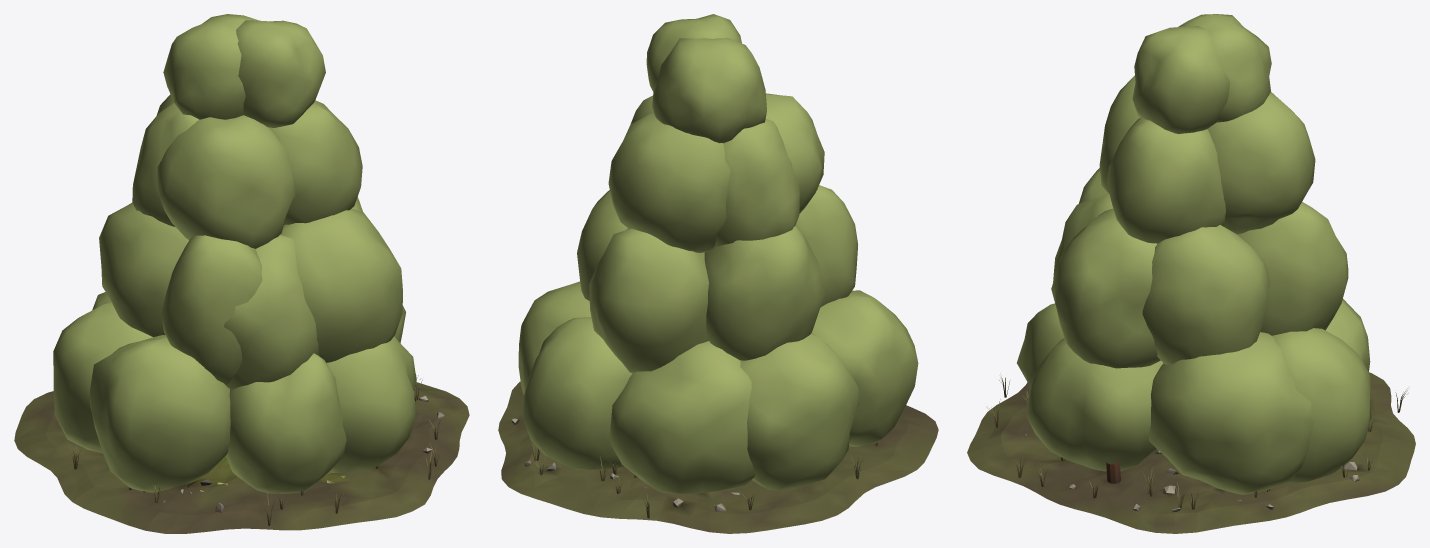
The model's file is haze.glb.
The picture shows the model from 3 angles, left to right: view 1: azimuth 30°, elevation 25°; view 2: azimuth 150°, elevation 25°; view 3: azimuth 270°, elevation 25°; orthographic projection. The views are drawn at different scales.
Visible parts, largest first — view 1: haze-translucent, haze; view 2: haze-translucent, haze; view 3: haze-translucent, haze.
Part boxes in pixels (x1,y1,x2,y2): haze-translucent: (53,14,416,493); haze: (14,374,469,533); haze-translucent: (518,14,918,494); haze: (498,381,938,533); haze-translucent: (1017,14,1371,494); haze: (967,372,1415,533).
Size of the model in its own units: 0.9671 by 0.9686 by 0.9612.
